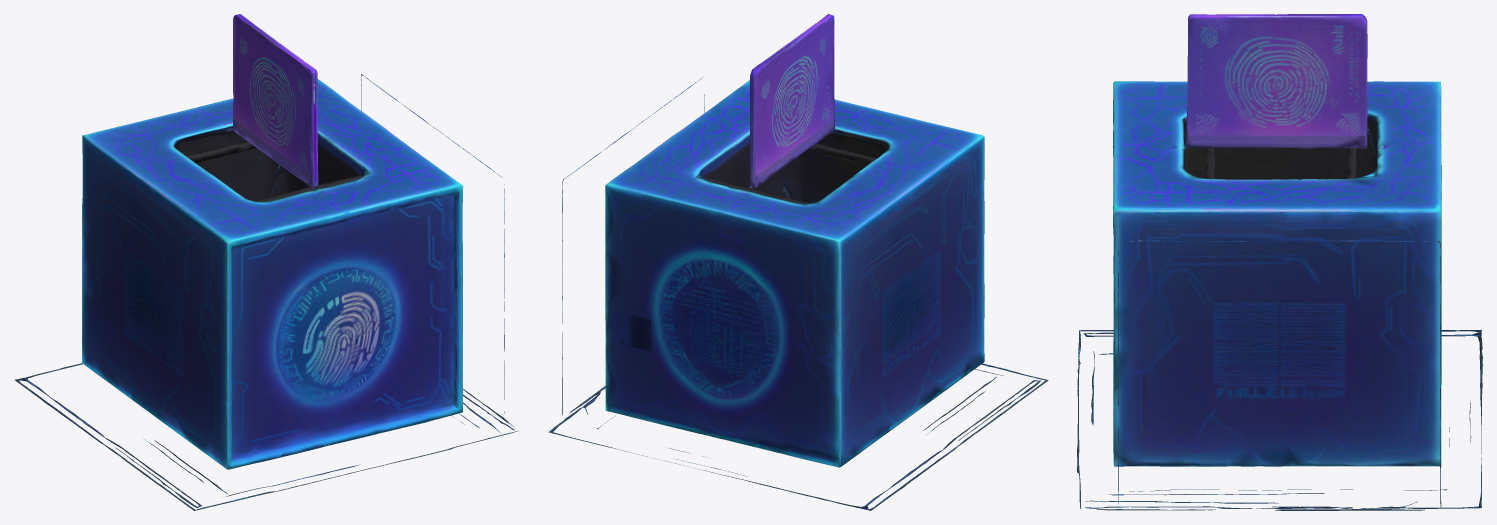
The model's file is boxx.glb.
3 views of the same model, side by side, from view 1: azimuth 30°, elevation 25°; view 2: azimuth 150°, elevation 25°; view 3: azimuth 270°, elevation 25° (orthographic). The views are drawn at different scales.
Size of the model in its own units: 1.85 by 1.95 by 1.75.
Materials: 1 (1 with a texture image).
